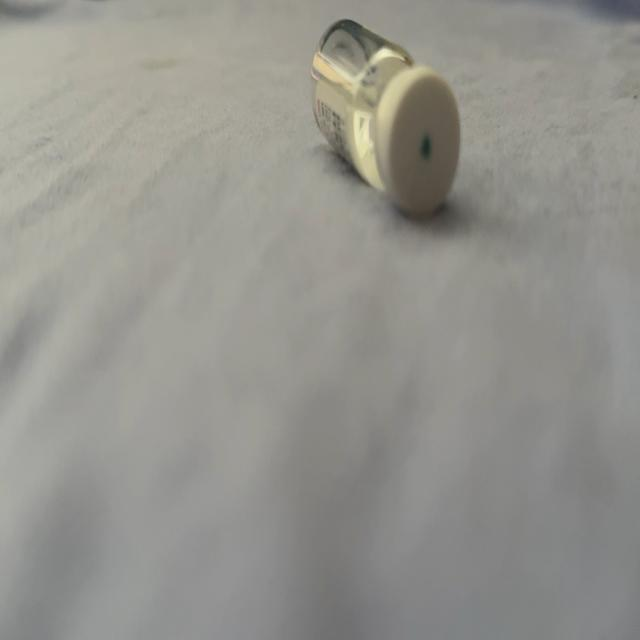fentanl_citrat: (313, 22, 458, 214)
